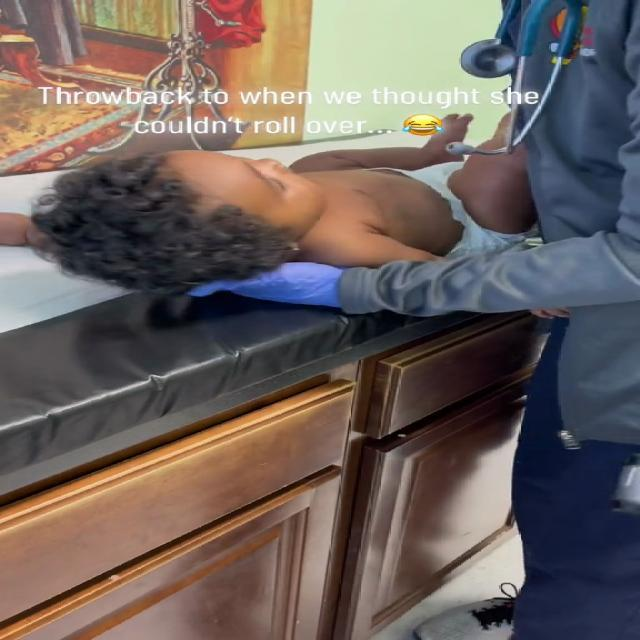baby: (0, 108, 573, 317)
